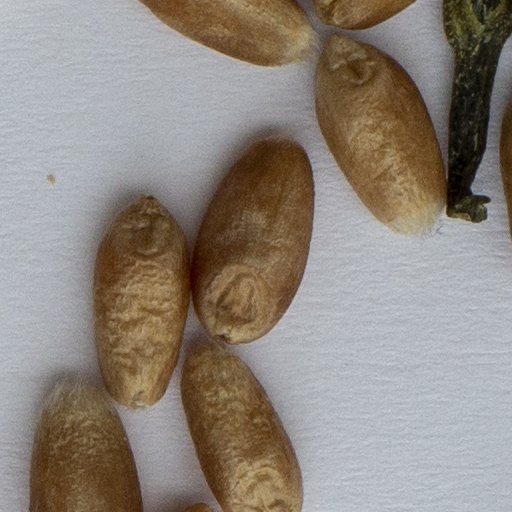Peel-poly: (443, 0, 511, 218)
